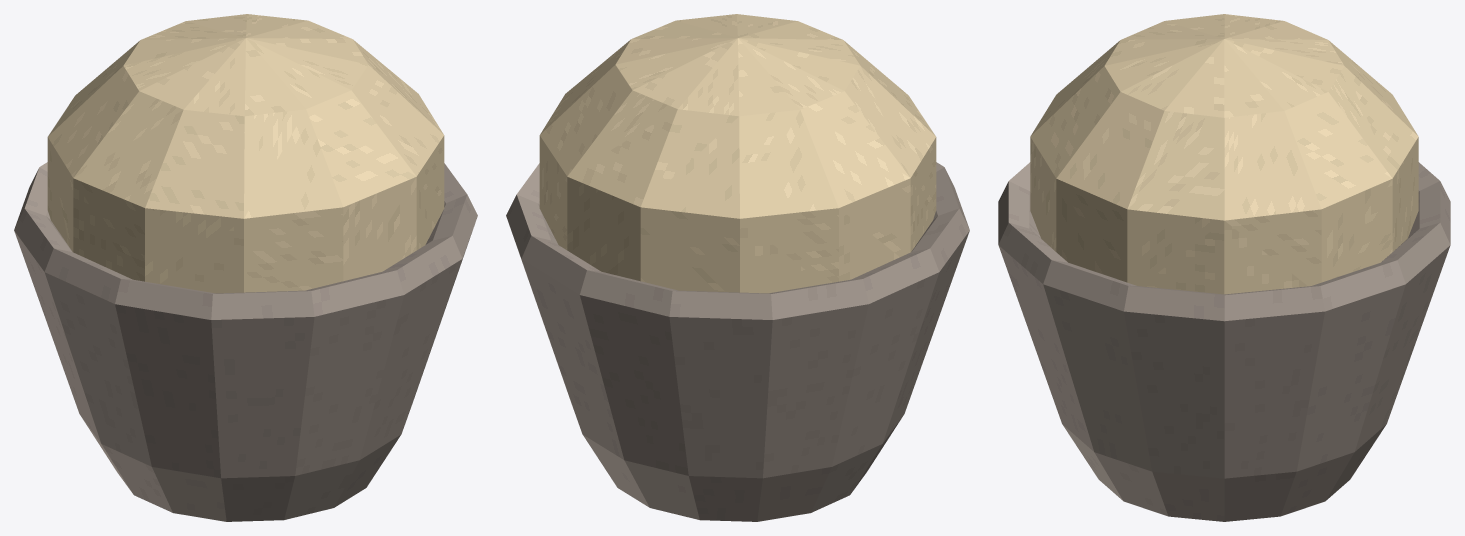
File: icecream.glb
3 views of the same model, side by side, from view 1: azimuth 30°, elevation 25°; view 2: azimuth 150°, elevation 25°; view 3: azimuth 270°, elevation 25° (orthographic).
Parts seen in each view (by area): view 1: block_frozen scoop, block_dessert dish; view 2: block_frozen scoop, block_dessert dish; view 3: block_frozen scoop, block_dessert dish.
Part boxes in pixels (bbox=[...]): block_frozen scoop: bbox=[47, 14, 444, 293]; block_dessert dish: bbox=[14, 162, 477, 521]; block_frozen scoop: bbox=[539, 14, 936, 293]; block_dessert dish: bbox=[506, 162, 969, 521]; block_frozen scoop: bbox=[1030, 14, 1418, 294]; block_dessert dish: bbox=[998, 162, 1450, 521].
Size of the model in its own units: 0.118 by 0.1203 by 0.1151.
1 material, 1 textured.
